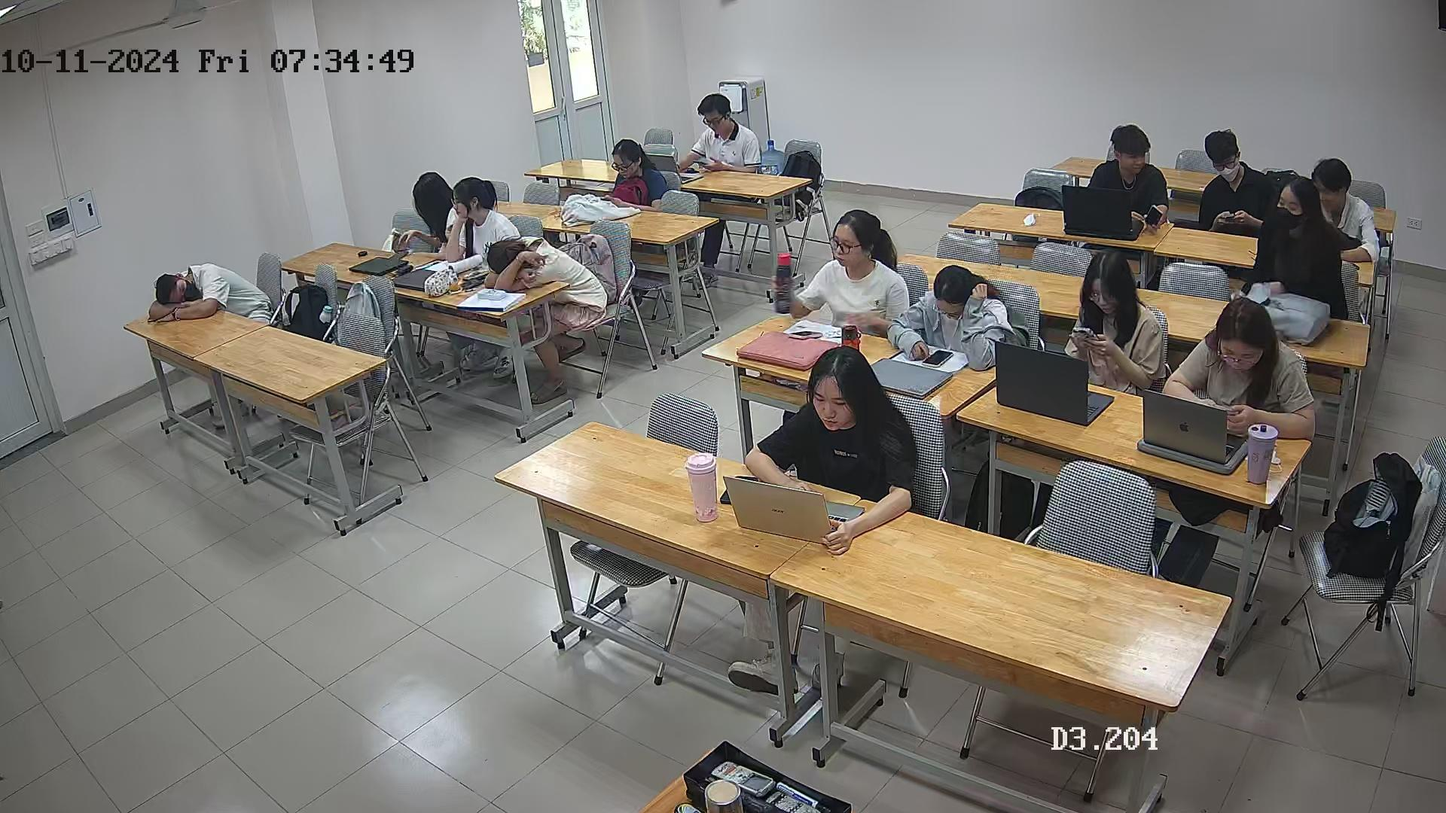Bend Over The Desk: (136, 257, 247, 328), (491, 237, 553, 288)
phone: (904, 319, 964, 373), (1131, 178, 1172, 238), (1071, 315, 1122, 355), (1210, 197, 1250, 236), (1211, 396, 1246, 422), (688, 154, 721, 178), (597, 188, 626, 212)
